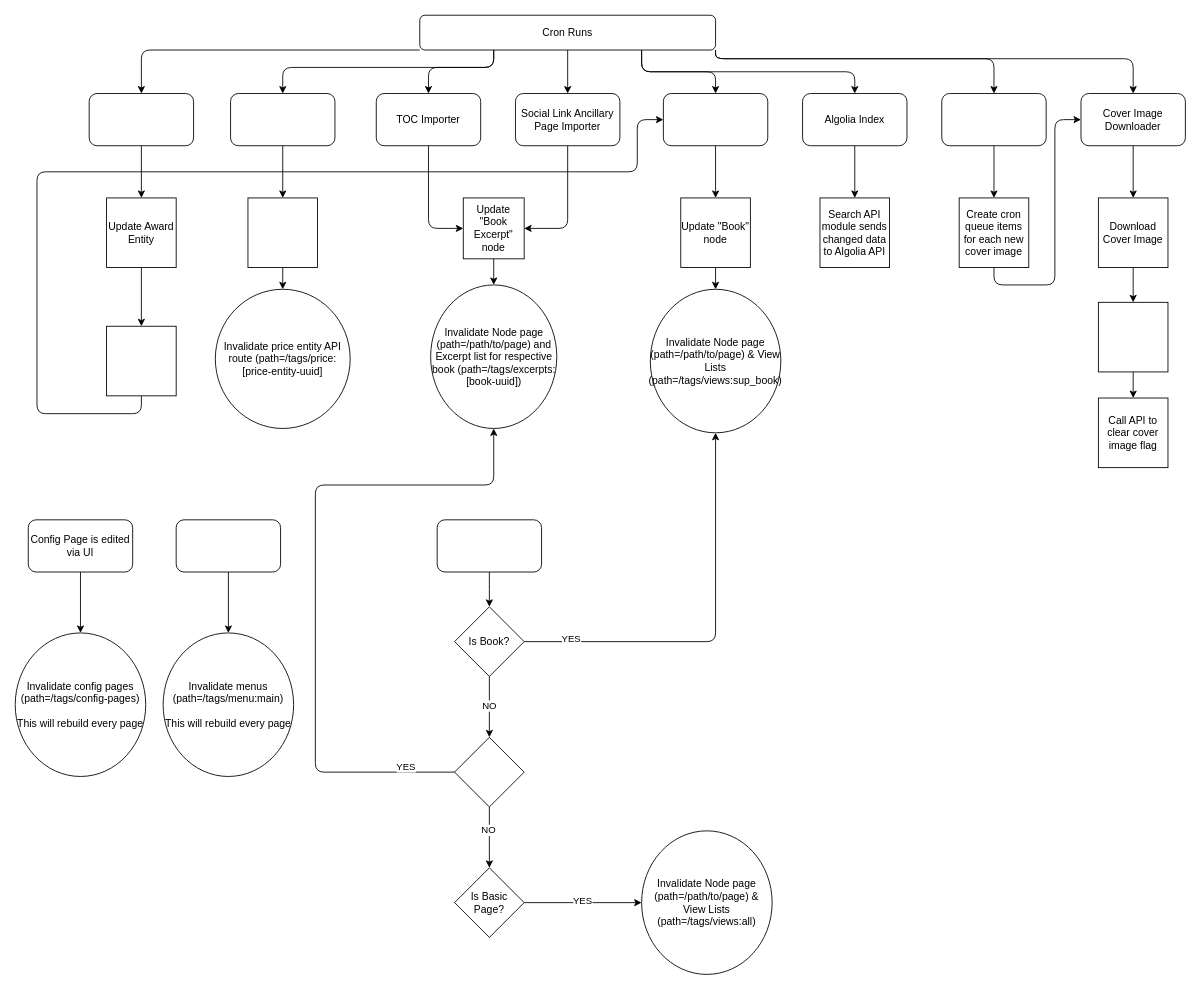
This 1201x990 diagram has some shape labels left out. The shapes that lost their labels are listed below. From the top down, each one's centre as x and y in pixels, then its label:
At [141,119]: "Award Importer".
At [282,119]: "Book Price Importer".
At [715,119]: "Book Importer".
At [993,119]: "Cover Image Queue".
At [282,232]: "Update Price Entity".
At [1133,336]: "Resize Cover Image".
At [141,360]: "Trigger Book to be updated".
At [228,545]: "Menu Item is edited via UI".
At [489,545]: "Node is edited via UI".
At [489,771]: "Is Excerpt?".
